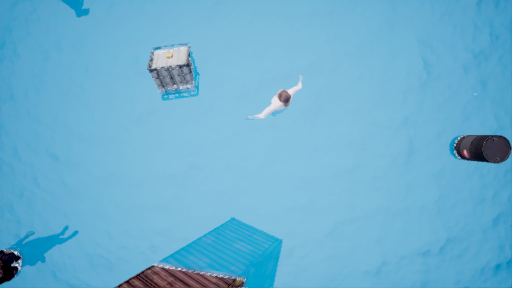person: (251, 75, 314, 130)
